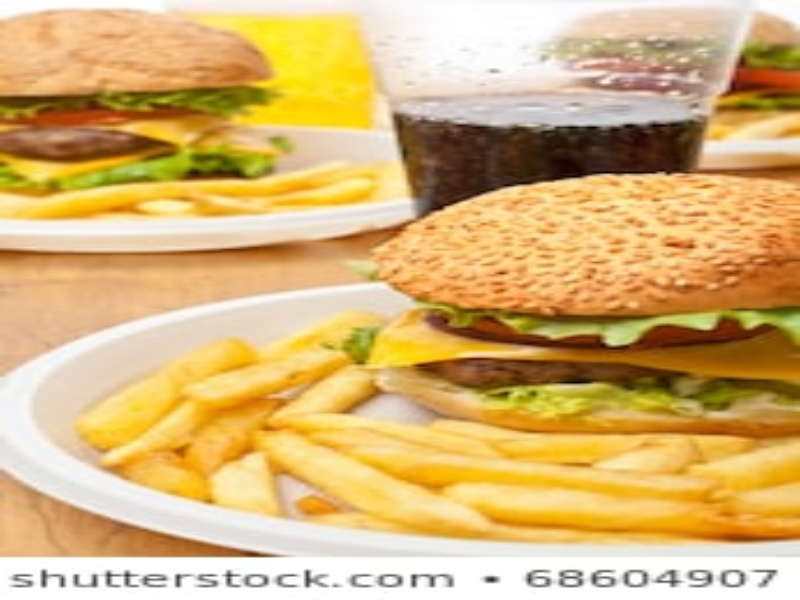plastic-cup: (347, 2, 757, 197)
plastic-plate: (1, 278, 783, 561), (1, 113, 419, 256)
